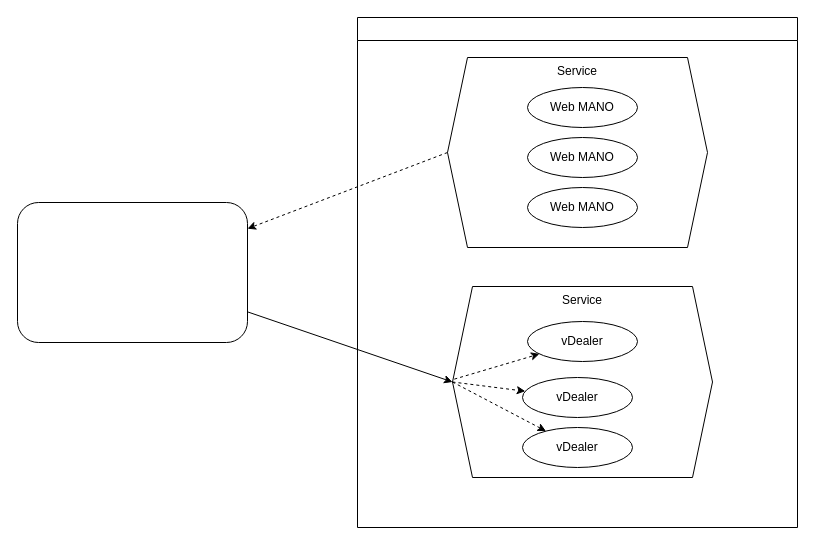
This 815x545 diagram has some shape labels left out. Here are the shapes that lost their labels. From the top down, the box of each, then its label:
(16, 202, 248, 342): Trình duyệt (Client)
(356, 16, 798, 528): K8S
